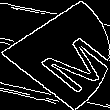M_NW: (8, 20, 102, 90)
